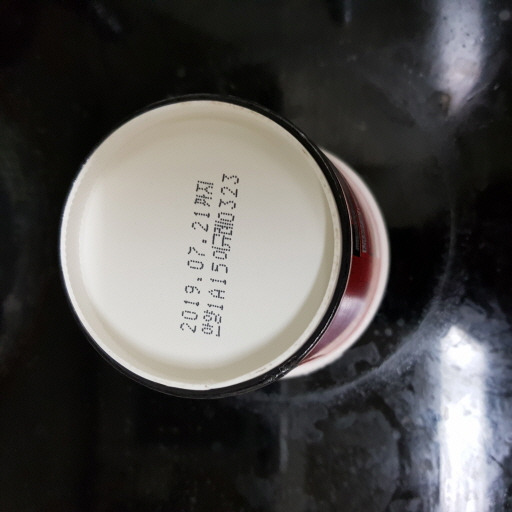Paper_1: (59, 95, 390, 401)
